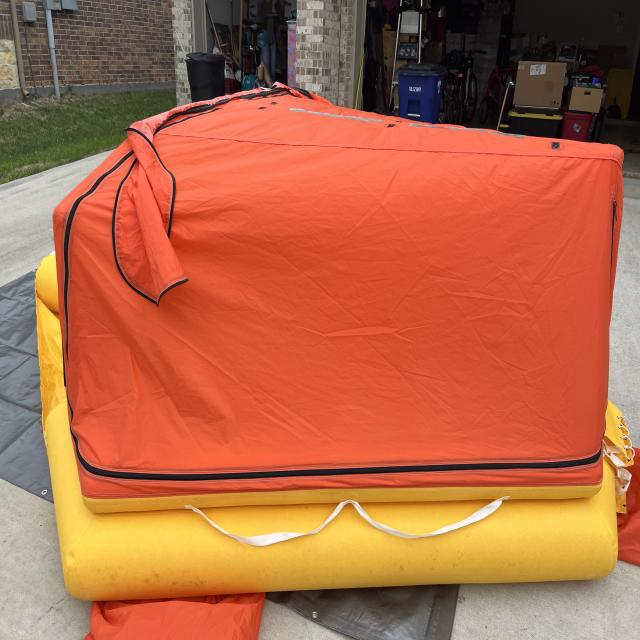Multi-person_life_raft: (34, 79, 639, 639)
